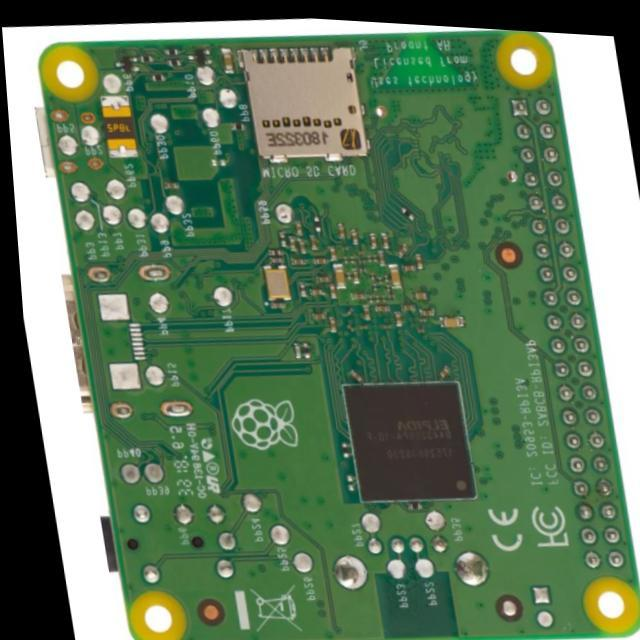Raspberry-Pi-3-A-: (39, 32, 640, 640)
